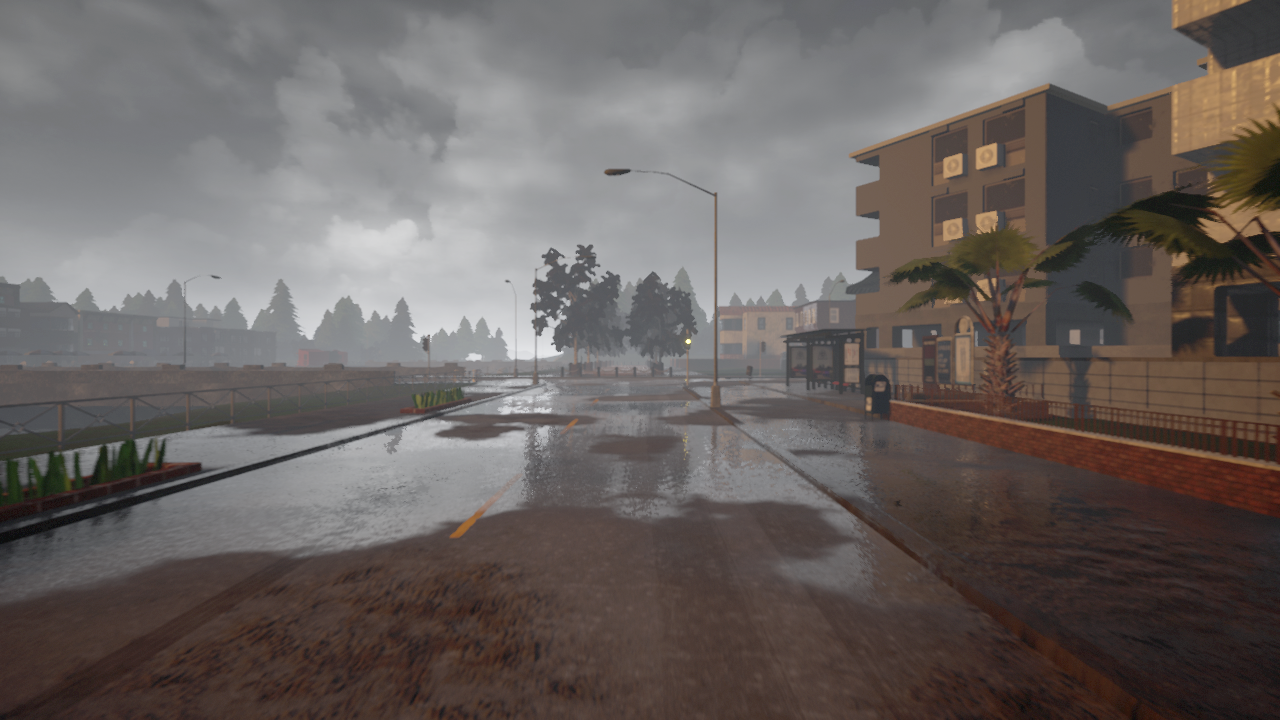yellow: (685, 333, 692, 351)
